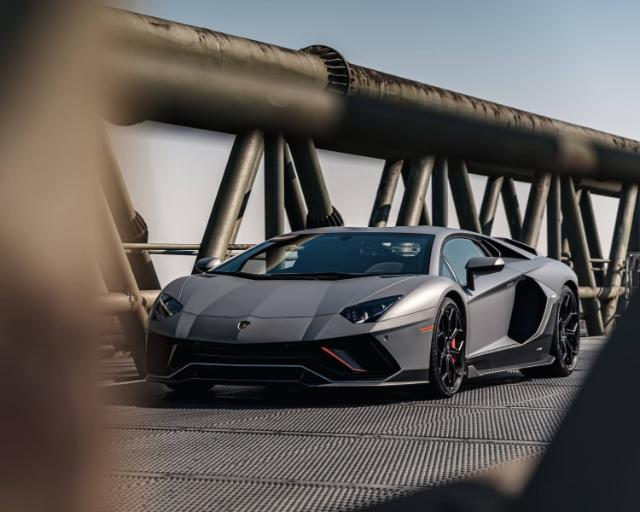lamborghini: (144, 226, 582, 398)
